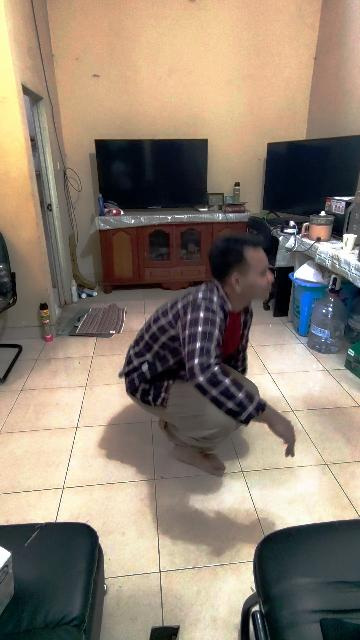jatuh: (121, 229, 298, 479)
